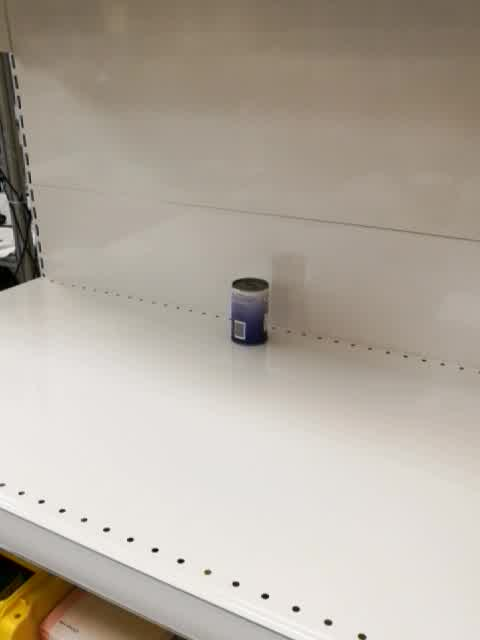sardine: (229, 276, 273, 347)
